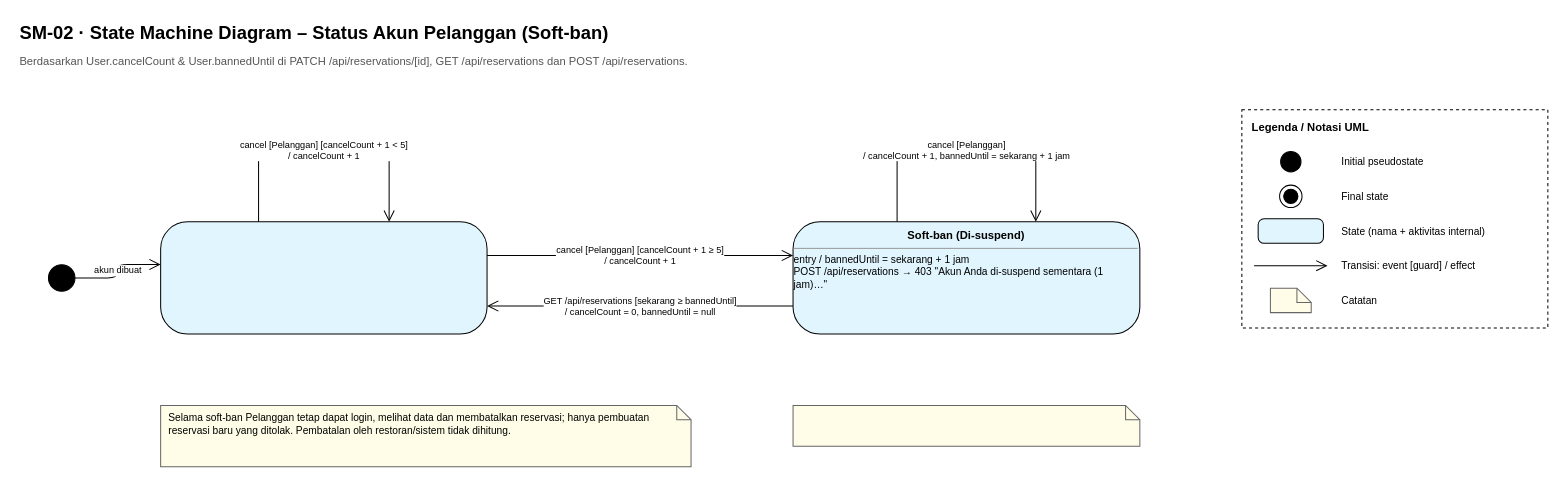
This 1566x485 diagram has some shape labels left out. Each missing label, with the box of its shape:
Aktif boleh membuat reservasi baru cancelCount < 5 (atau soft-ban sudah direset): (160, 221, 487, 334)
Tidak ada state akhir: aplikasi tidak menyediakan penghapusan akun.: (792, 404, 1140, 446)
